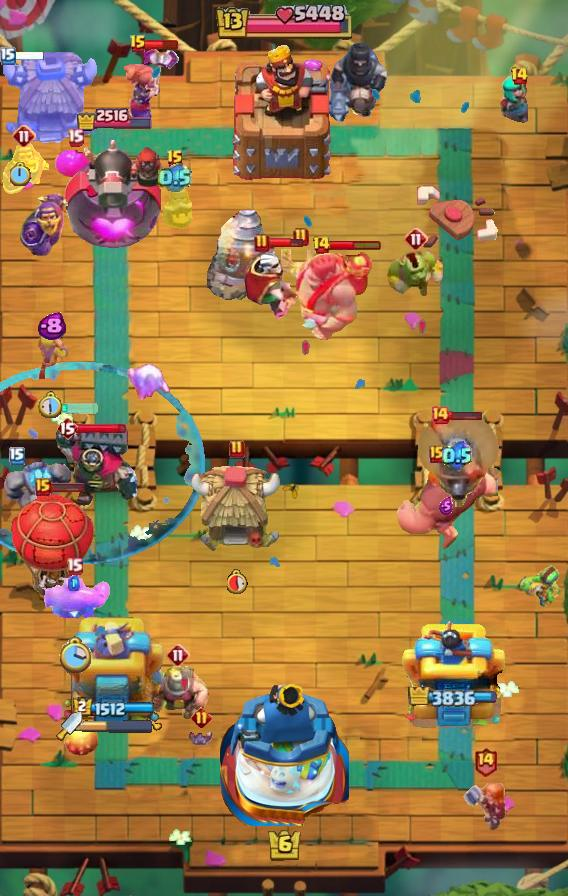balloon: (394, 454, 498, 554)
bandit: (147, 660, 209, 724)
bar: (62, 611, 166, 731)
barbarian-barrel: (186, 724, 216, 748)
cannon-cart: (10, 492, 96, 600)
clock: (213, 5, 355, 43)
dark-prince: (410, 419, 504, 507)
electro-spirit: (158, 163, 192, 193), (442, 441, 472, 471), (37, 311, 66, 340), (439, 497, 453, 515), (68, 575, 80, 591)
elixir: (58, 637, 91, 676), (38, 391, 64, 419), (227, 570, 248, 595), (9, 162, 30, 186)
emote: (76, 422, 127, 435), (330, 239, 383, 251), (268, 235, 304, 248), (49, 481, 85, 493), (449, 411, 484, 422), (145, 38, 179, 49), (12, 51, 45, 61)
firecracker-evolution: (20, 191, 69, 257), (0, 141, 48, 195)
flying-machine: (387, 247, 445, 301)
giant-snowball: (520, 565, 568, 609)
hog: (64, 719, 98, 757)
hog-rider: (462, 782, 508, 832)
ice-spirit: (58, 403, 100, 415)
ice-spirit-evolution: (281, 249, 321, 281)
inferno-dragon: (324, 41, 388, 124)
inferno-tower: (21, 424, 137, 508)
king-tower: (219, 678, 349, 826), (230, 43, 338, 181)
king-tower-bar: (82, 719, 154, 733)
lava-hound: (292, 247, 374, 343)
magic-archer: (207, 209, 267, 301)
miner: (55, 150, 95, 178)
mirror: (124, 362, 174, 400)
pad_0: (0, 362, 206, 568)
prince: (0, 52, 102, 148), (190, 464, 284, 554)
princess: (153, 170, 197, 230)
queen-tower: (399, 617, 507, 731)
selected: (75, 106, 153, 132), (408, 687, 498, 707), (72, 698, 155, 719)
skeleton-king: (242, 241, 302, 327)
tesla-evolution: (124, 48, 181, 127)
text: (474, 746, 499, 777), (12, 124, 36, 148), (404, 227, 428, 251), (166, 643, 190, 667), (56, 416, 78, 440), (192, 707, 213, 728), (510, 66, 530, 86), (430, 405, 450, 425), (312, 235, 331, 255), (129, 34, 147, 54), (166, 149, 184, 169), (67, 129, 85, 147), (66, 556, 83, 575), (293, 227, 309, 247), (254, 233, 270, 253), (229, 439, 245, 459), (0, 47, 16, 65), (429, 445, 445, 463), (9, 447, 25, 465), (35, 478, 51, 496)
tornado: (37, 574, 111, 626)
tower-bar: (60, 132, 167, 256)
valkyrie-evolution: (0, 457, 72, 525)
witch: (498, 75, 540, 125)
zap: (32, 335, 70, 379)
